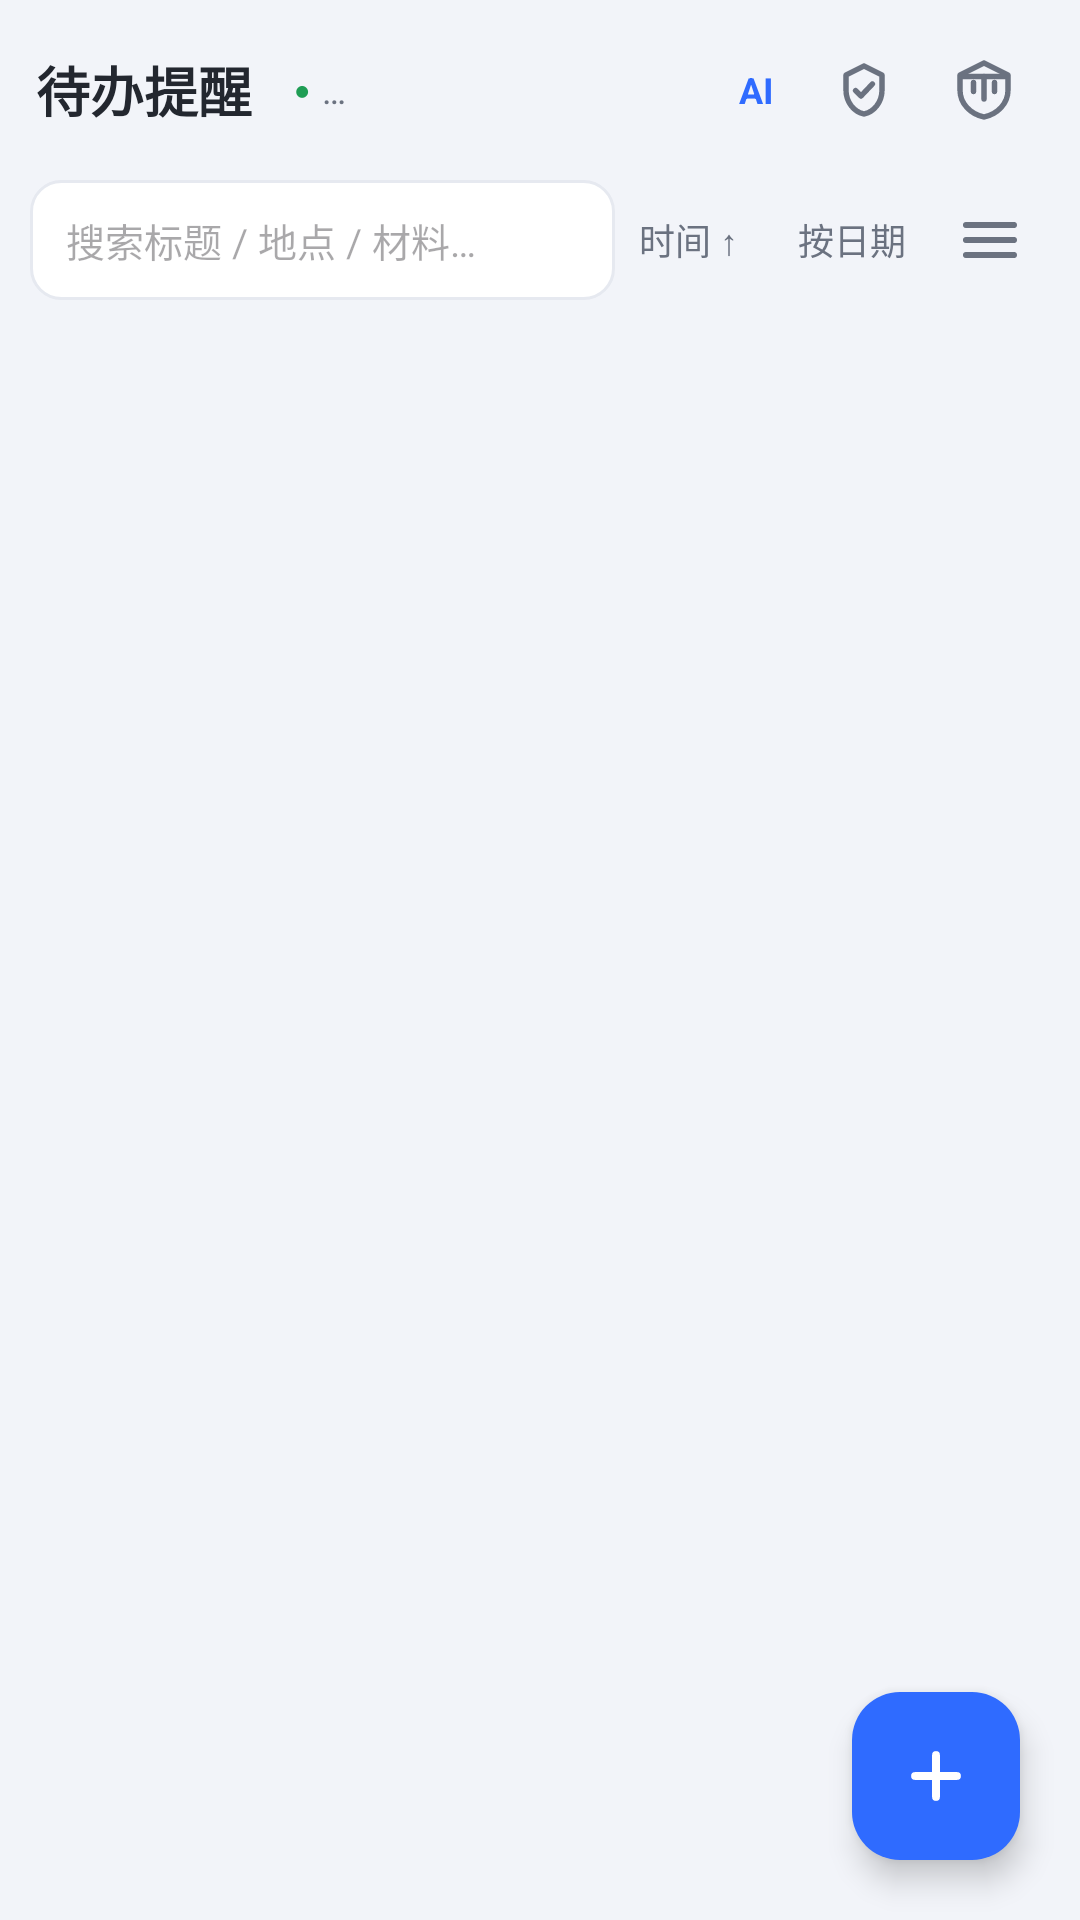

Screen size 1080×1920. Icon name, then its box in pixels as (x1, y1, x2, y2):
新建待办: (852, 1692, 1020, 1860)
